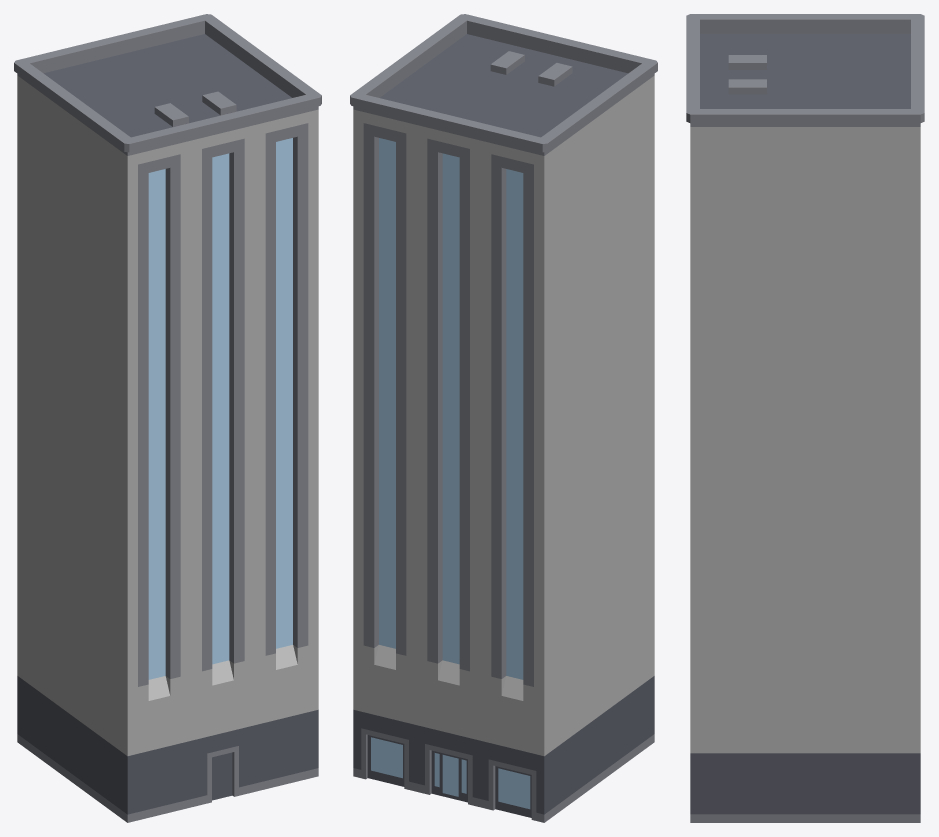
File: skyscraperF.fbx
3 views of the same model, side by side, from view 1: azimuth 30°, elevation 25°; view 2: azimuth 150°, elevation 25°; view 3: azimuth 270°, elevation 25° (orthographic). The views are drawn at different scales.
Parts seen in each view (by area): view 1: skyscraperF; view 2: skyscraperF; view 3: skyscraperF.
Part boxes in pixels (<box>): skyscraperF: <box>14,14,321,822</box>; skyscraperF: <box>350,14,657,822</box>; skyscraperF: <box>686,14,924,822</box>.
Bounding box in the file's own units: 12.4 × 40.8 × 12.4.
